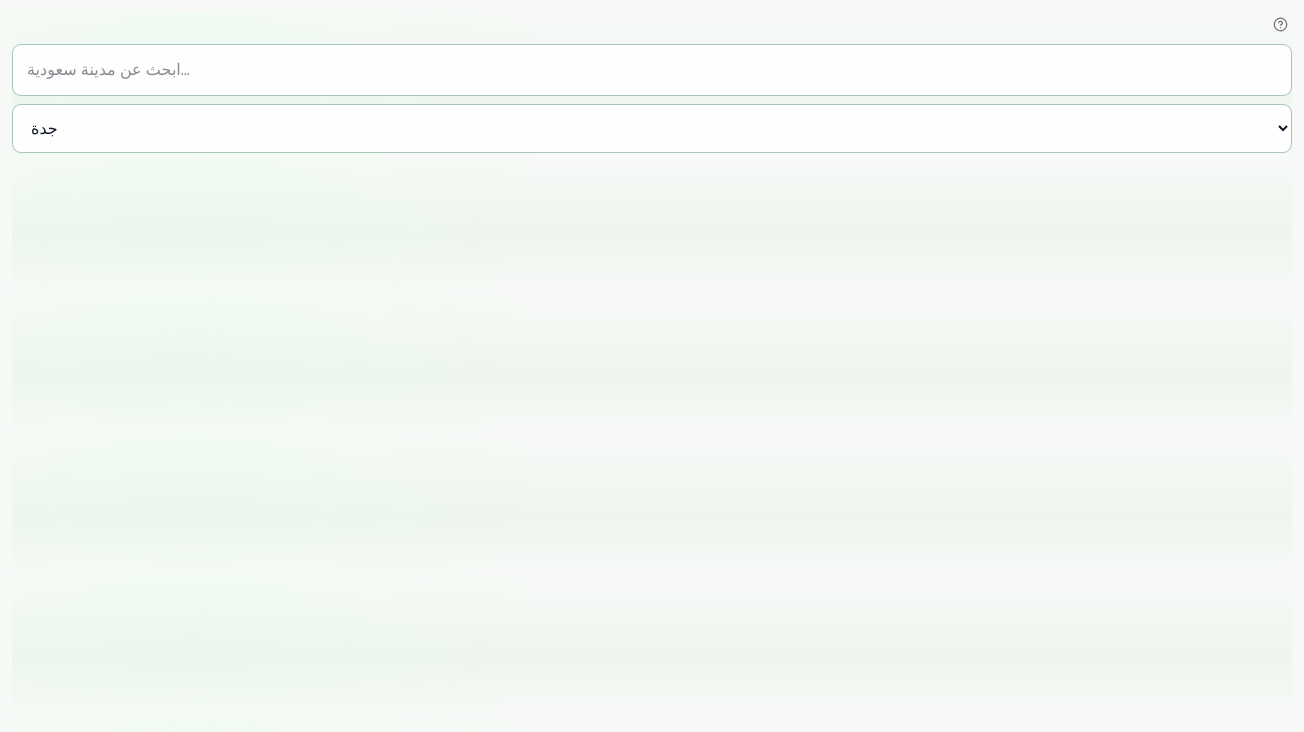
SearchableSaudiSelect help cue › uses localized Arabic help copy
Focus the button named "كيف تعمل اختيارات المطابقة؟" at (1280, 24), box [1268, 12, 1292, 36]
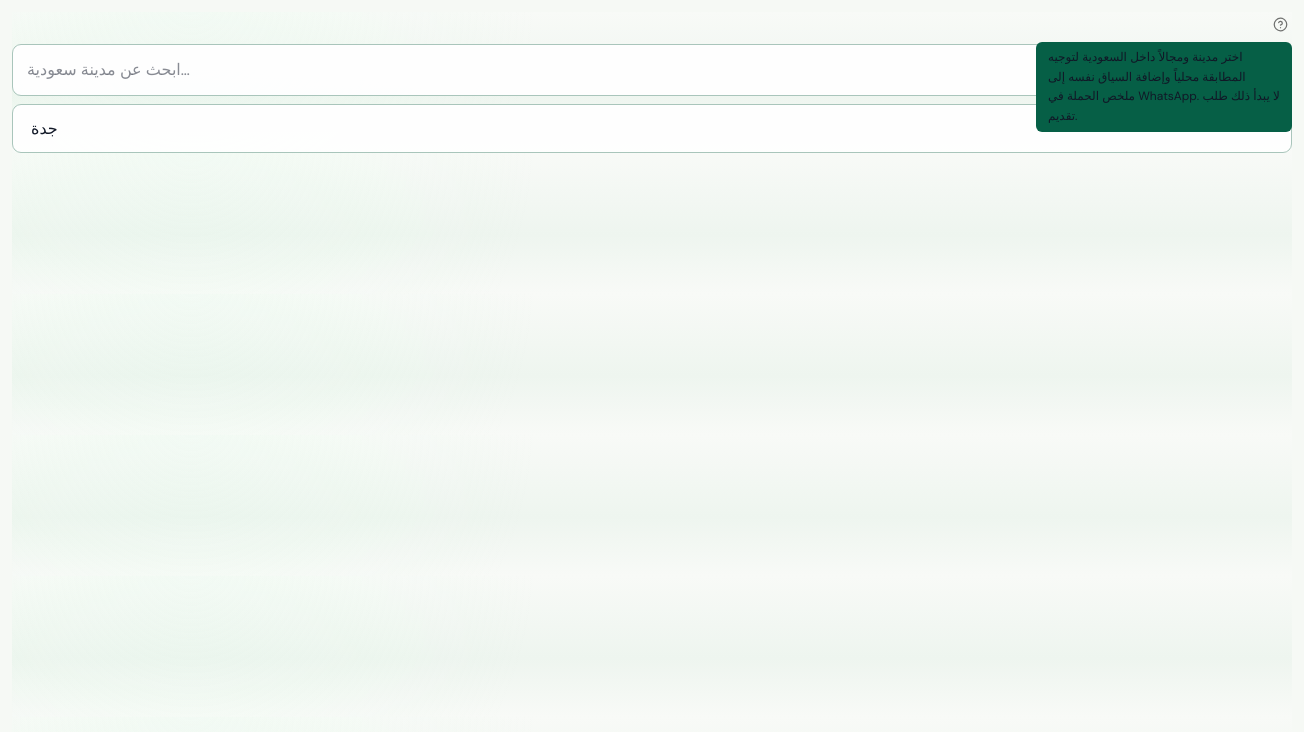
Expected: the tooltip "لتوجيه المطابقة محلياً" is shown, [1048, 49, 1280, 124]
